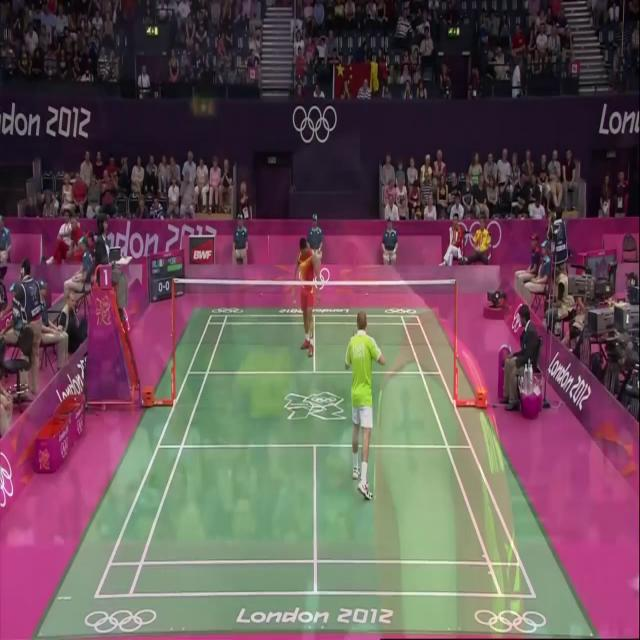Net: (169, 274, 459, 362)
Player1: (340, 303, 388, 502)
Player2: (290, 232, 323, 364)
Shuttlecock: (289, 296, 299, 310)
